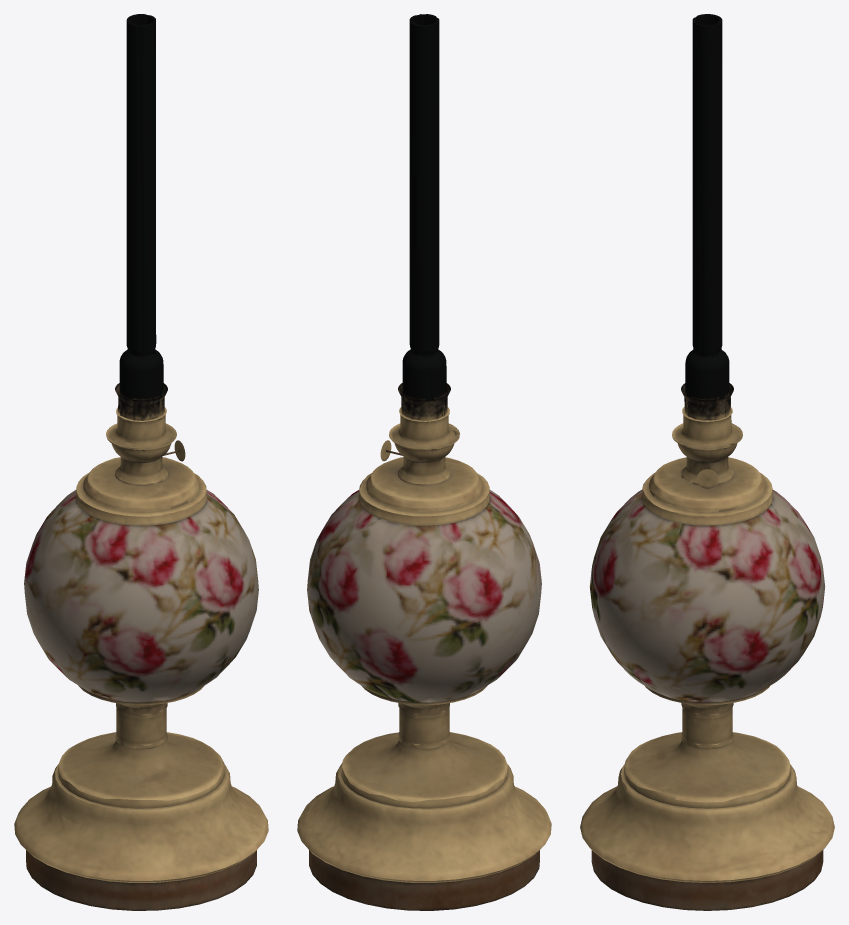
Rendered from lamp_oil.glb.
The picture shows the model from 3 angles, left to right: view 1: azimuth 30°, elevation 25°; view 2: azimuth 150°, elevation 25°; view 3: azimuth 270°, elevation 25°; orthographic projection.
Parts seen in each view (by area): view 1: mesh; view 2: mesh; view 3: mesh.
Boxes of the visible parts, left/top/right/bottom form: mesh: left=14, top=14, right=268, bottom=910; mesh: left=297, top=14, right=551, bottom=910; mesh: left=580, top=14, right=834, bottom=910.
Size of the model in its own units: 0.22 by 0.8016 by 0.22.
Materials: 1 (1 with a texture image).
